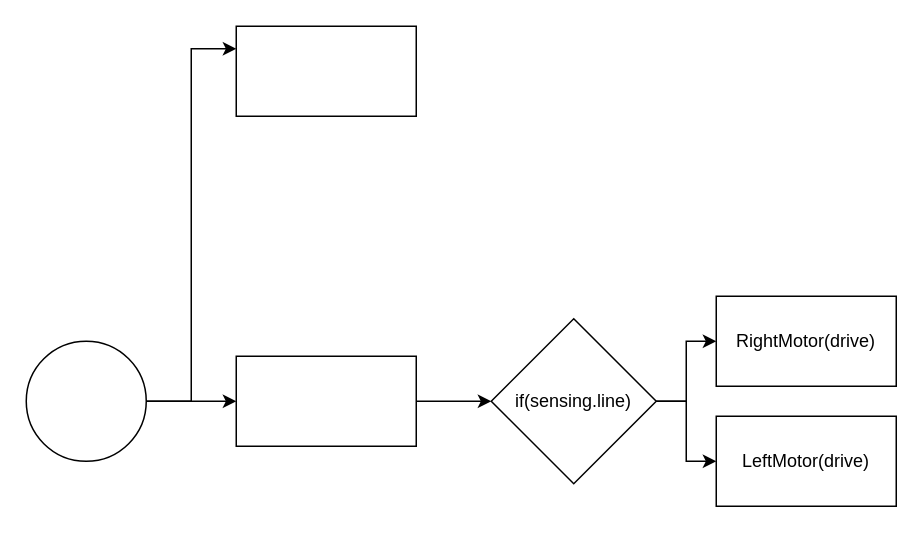
Some shapes in this 923 by 533 pixel diagram are drawn without their labels. Each missing label, with the centre of its shape:
LineSensorB: (x=325, y=400)
LineSensorC: (x=325, y=70)
